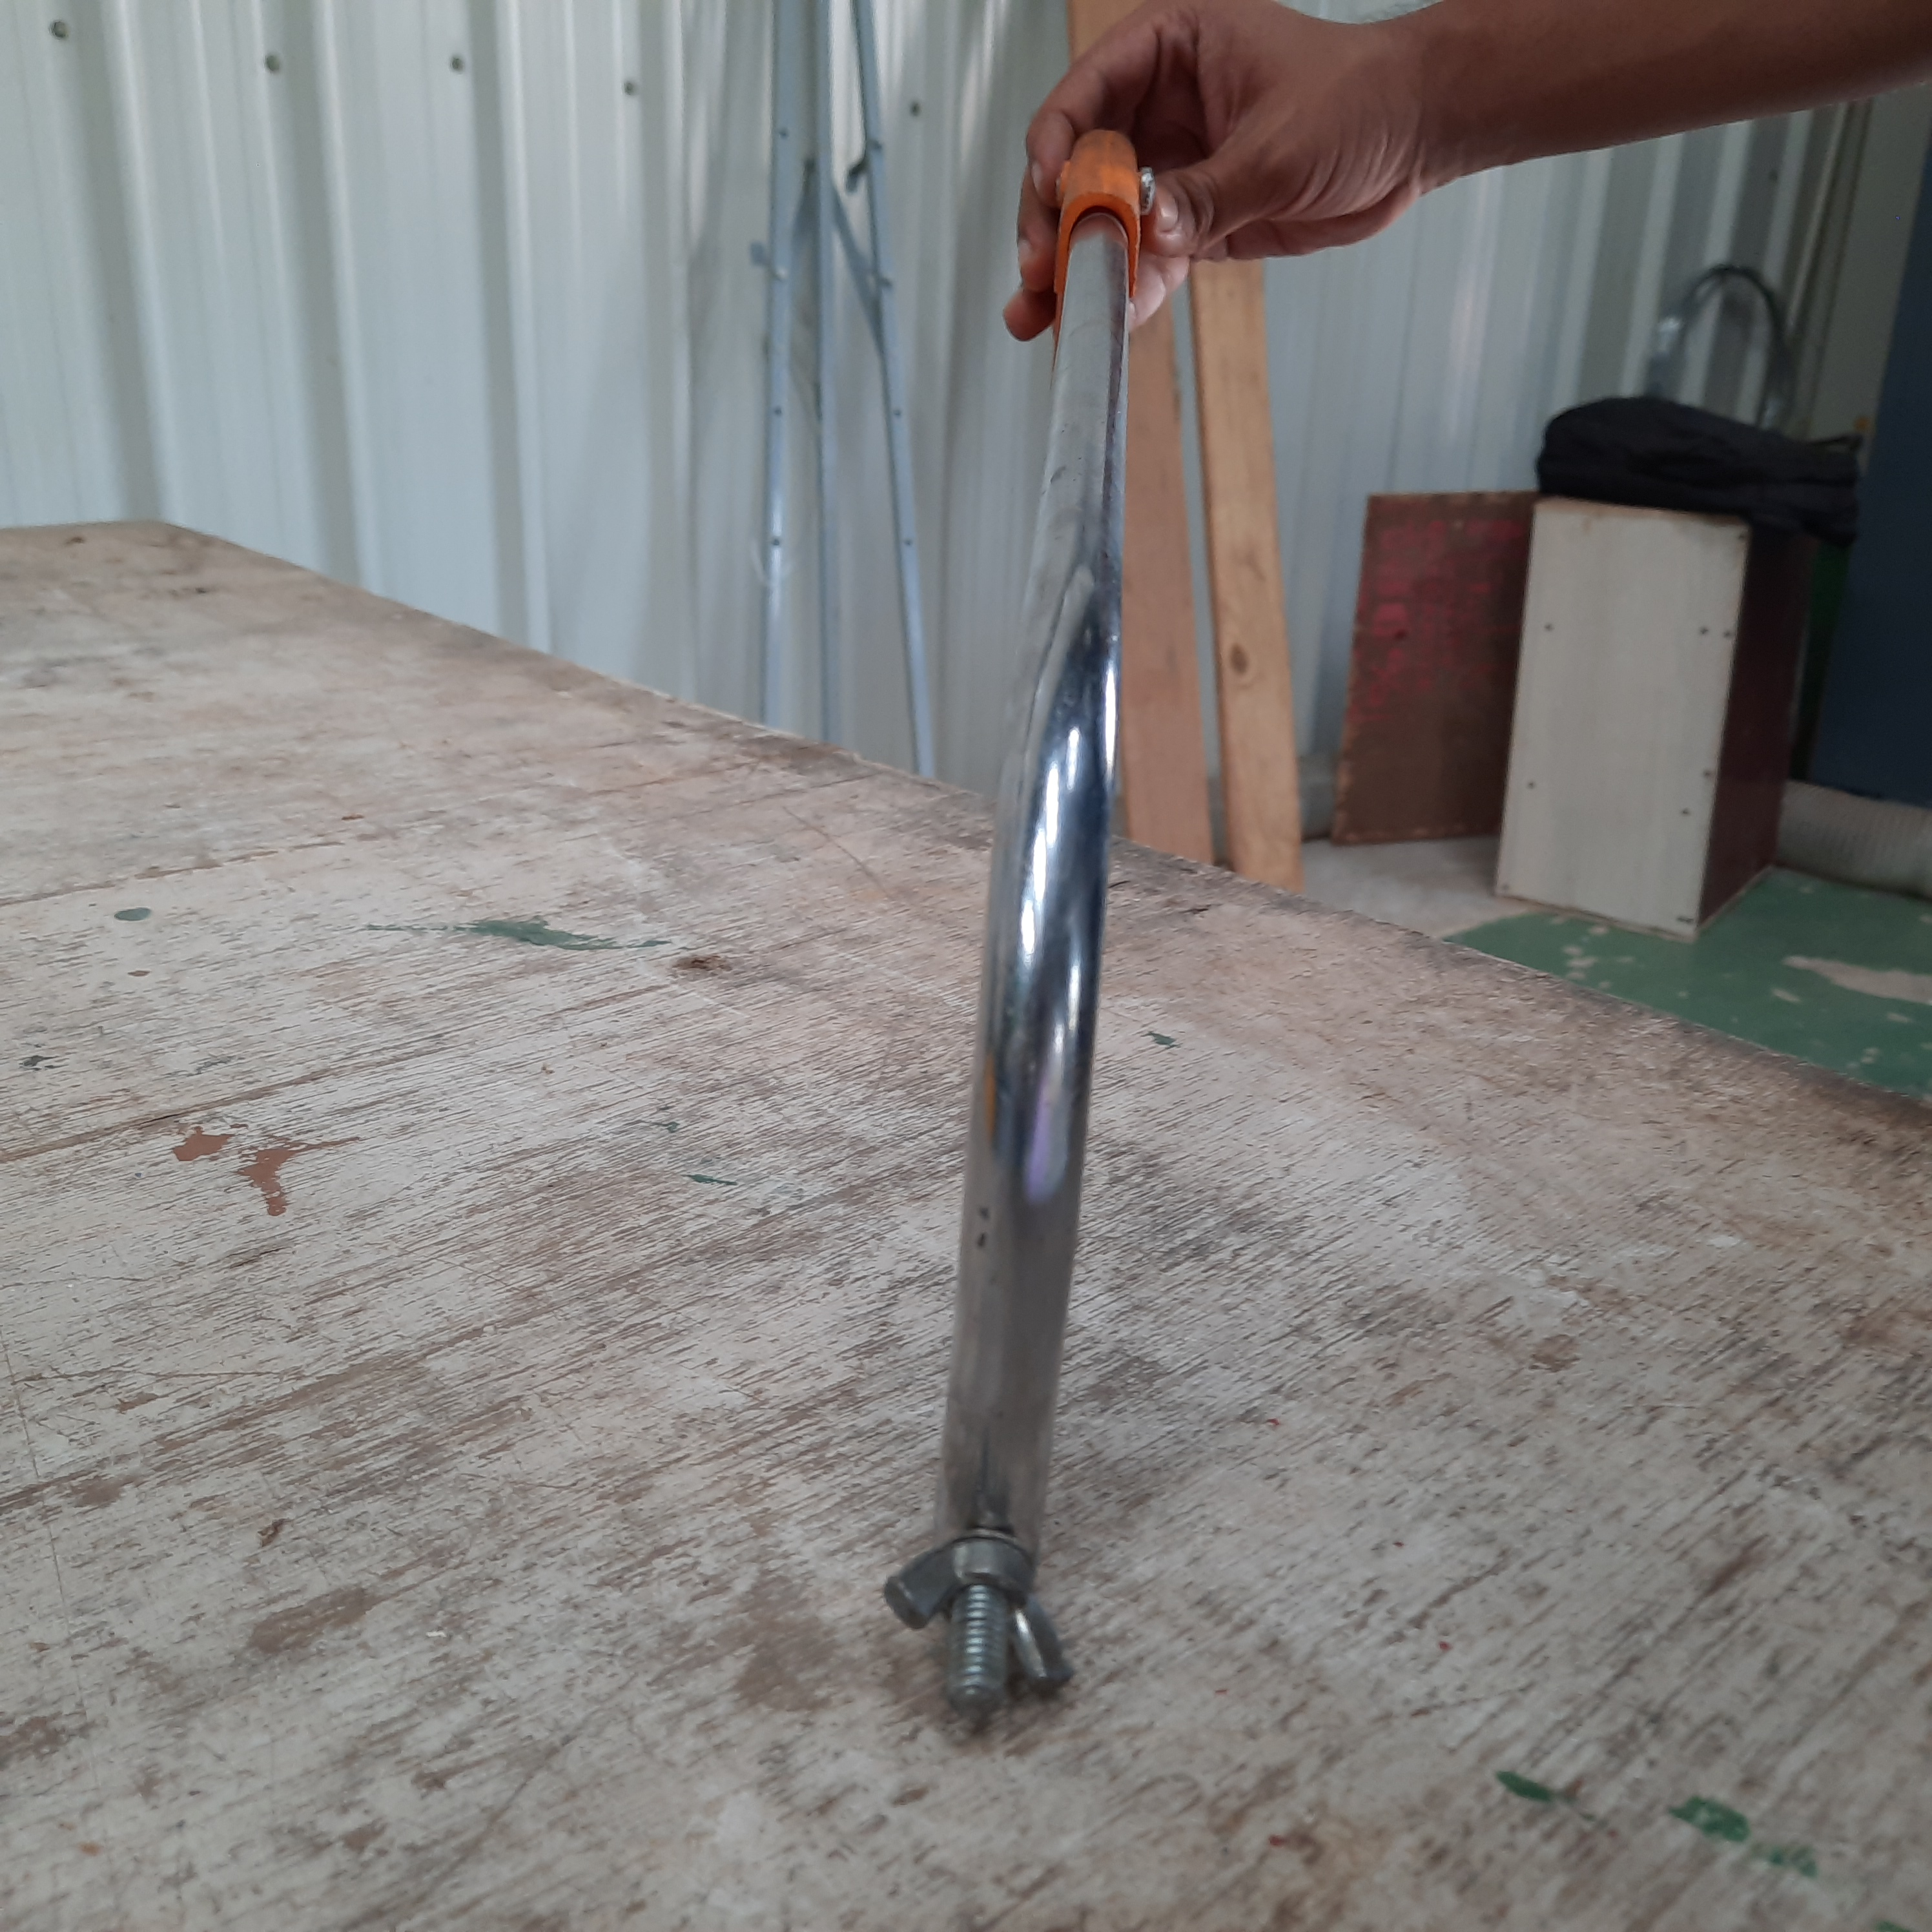Hexaframe: (846, 122, 1279, 1794)
